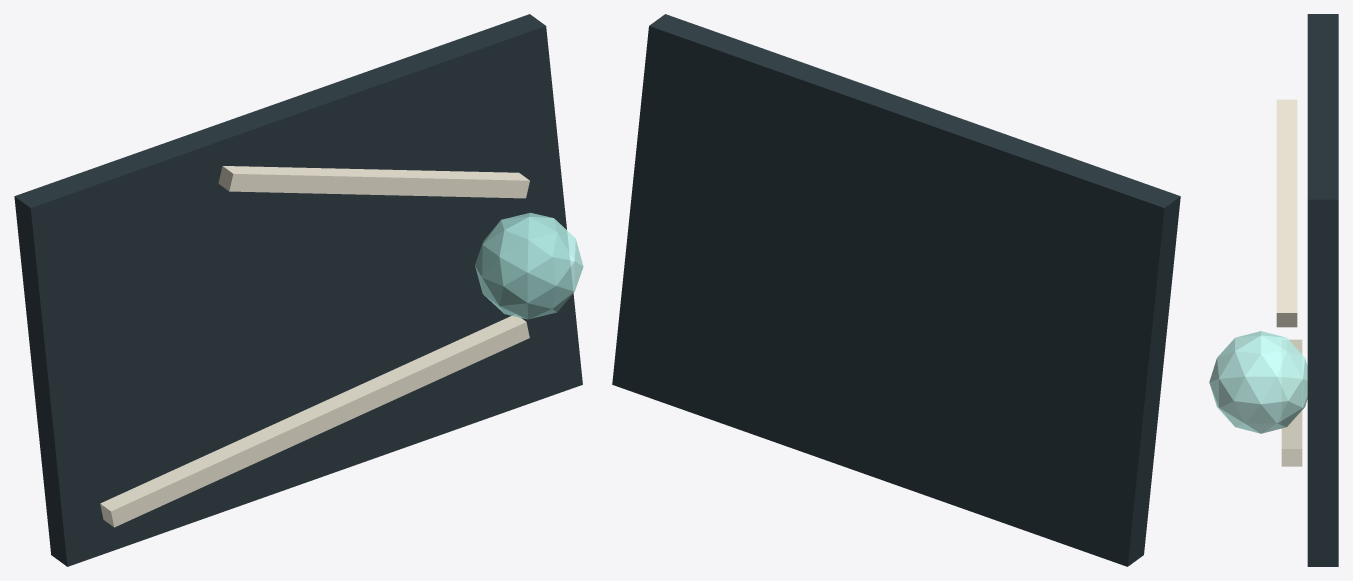
The model's file is 02_world_prop_polish.glb.
The picture shows the model from 3 angles, left to right: view 1: azimuth 30°, elevation 25°; view 2: azimuth 150°, elevation 25°; view 3: azimuth 270°, elevation 25°; orthographic projection. The views are drawn at different scales.
Parts seen in each view (by area): view 1: object_overlay_plate, edge_wear_a, glow_socket, edge_wear_b; view 2: object_overlay_plate; view 3: object_overlay_plate, glow_socket, edge_wear_b, edge_wear_a.
Part boxes in pixels (x1,y1,x2,y2): object_overlay_plate: (14, 14, 582, 566); edge_wear_a: (100, 315, 529, 527); glow_socket: (475, 212, 583, 319); edge_wear_b: (218, 166, 529, 198); object_overlay_plate: (612, 14, 1180, 566); object_overlay_plate: (1307, 14, 1338, 566); glow_socket: (1209, 331, 1307, 433); edge_wear_b: (1276, 99, 1297, 327); edge_wear_a: (1281, 339, 1302, 466).
Size of the model in its own units: 1.17 by 0.8604 by 0.25.
